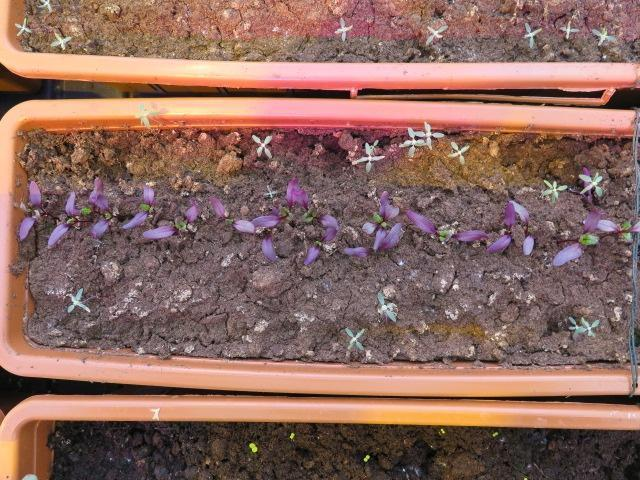weed: (418, 18, 455, 51), (61, 282, 95, 317), (442, 135, 473, 167), (340, 320, 368, 353), (517, 17, 545, 50), (588, 21, 622, 48), (247, 128, 276, 159), (539, 174, 571, 202), (329, 15, 356, 44), (45, 28, 72, 52), (555, 17, 579, 42), (10, 14, 33, 40), (242, 438, 256, 453), (283, 426, 296, 440), (488, 425, 500, 439), (360, 449, 371, 463)
